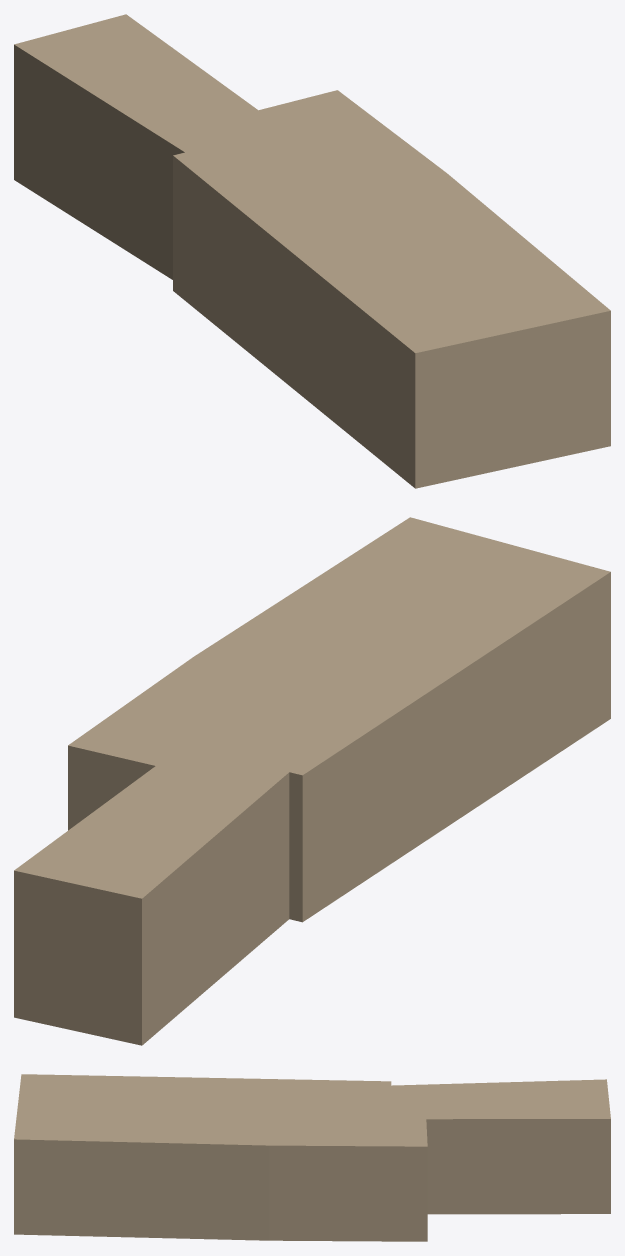
The model's file is bld_98768079.dae.
3 views of the same model, one above another, from view 1: azimuth 30°, elevation 25°; view 2: azimuth 150°, elevation 25°; view 3: azimuth 270°, elevation 25° (orthographic). The views are drawn at different scales.
Parts seen in each view (by area): view 1: Greggs; view 2: Greggs; view 3: Greggs.
Boxes of the visible parts, bbox=[...] form: Greggs: bbox=[14, 14, 610, 488]; Greggs: bbox=[14, 517, 610, 1045]; Greggs: bbox=[14, 1074, 610, 1241].
Size of the model in its own units: 13.06 by 45.49 by 8.
